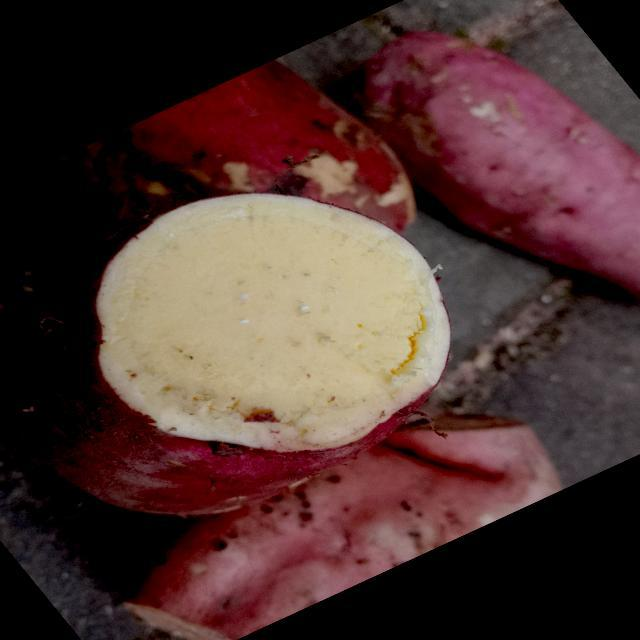Healthy Sweet Potato: (97, 194, 448, 451)
